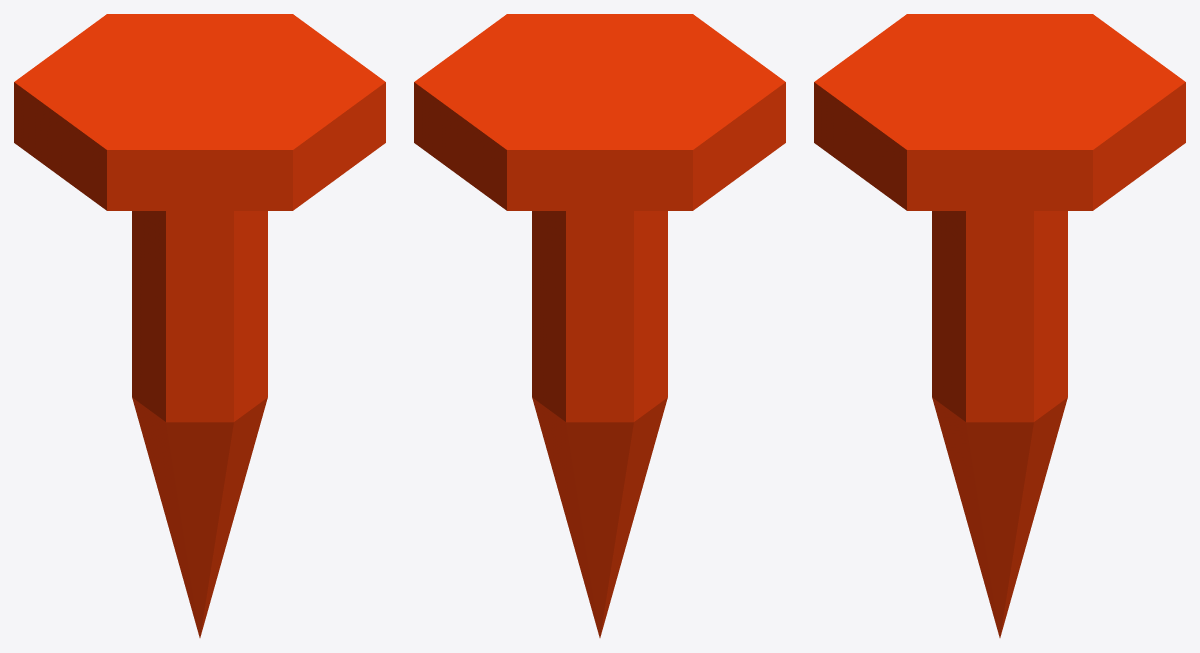
The model's file is NailHeated.fbx.
3 renders of one model, left to right at view 1: azimuth 30°, elevation 25°; view 2: azimuth 150°, elevation 25°; view 3: azimuth 270°, elevation 25°, orthographic.
Parts seen in each view (by area): view 1: NailHeated; view 2: NailHeated; view 3: NailHeated.
Part boxes in pixels (x1,y1,x2,y2): NailHeated: [14, 14, 385, 637]; NailHeated: [414, 14, 785, 637]; NailHeated: [814, 14, 1185, 637].
Bounding box in the file's own units: 0.2781 × 0.5308 × 0.3212.
